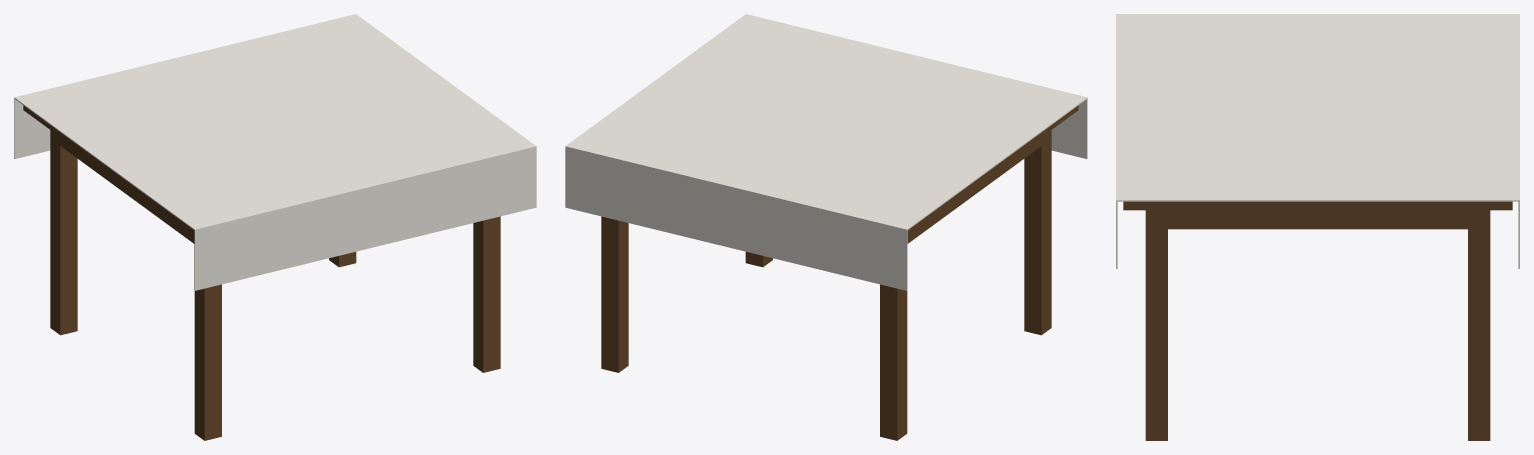
The picture shows the model from 3 angles, left to right: view 1: azimuth 30°, elevation 25°; view 2: azimuth 150°, elevation 25°; view 3: azimuth 270°, elevation 25°; orthographic projection. The views are drawn at different scales.
Parts seen in each view (by area): view 1: parametric-variant-table-1st-pub-d41ffe29efa30c71c630; view 2: parametric-variant-table-1st-pub-d41ffe29efa30c71c630; view 3: parametric-variant-table-1st-pub-d41ffe29efa30c71c630.
Boxes of the visible parts, box(x1,y1,x2,y2) form: parametric-variant-table-1st-pub-d41ffe29efa30c71c630: box(14, 14, 536, 440); parametric-variant-table-1st-pub-d41ffe29efa30c71c630: box(565, 14, 1087, 440); parametric-variant-table-1st-pub-d41ffe29efa30c71c630: box(1116, 14, 1519, 440).
Size of the model in its own units: 1.19 by 0.754 by 1.09.
